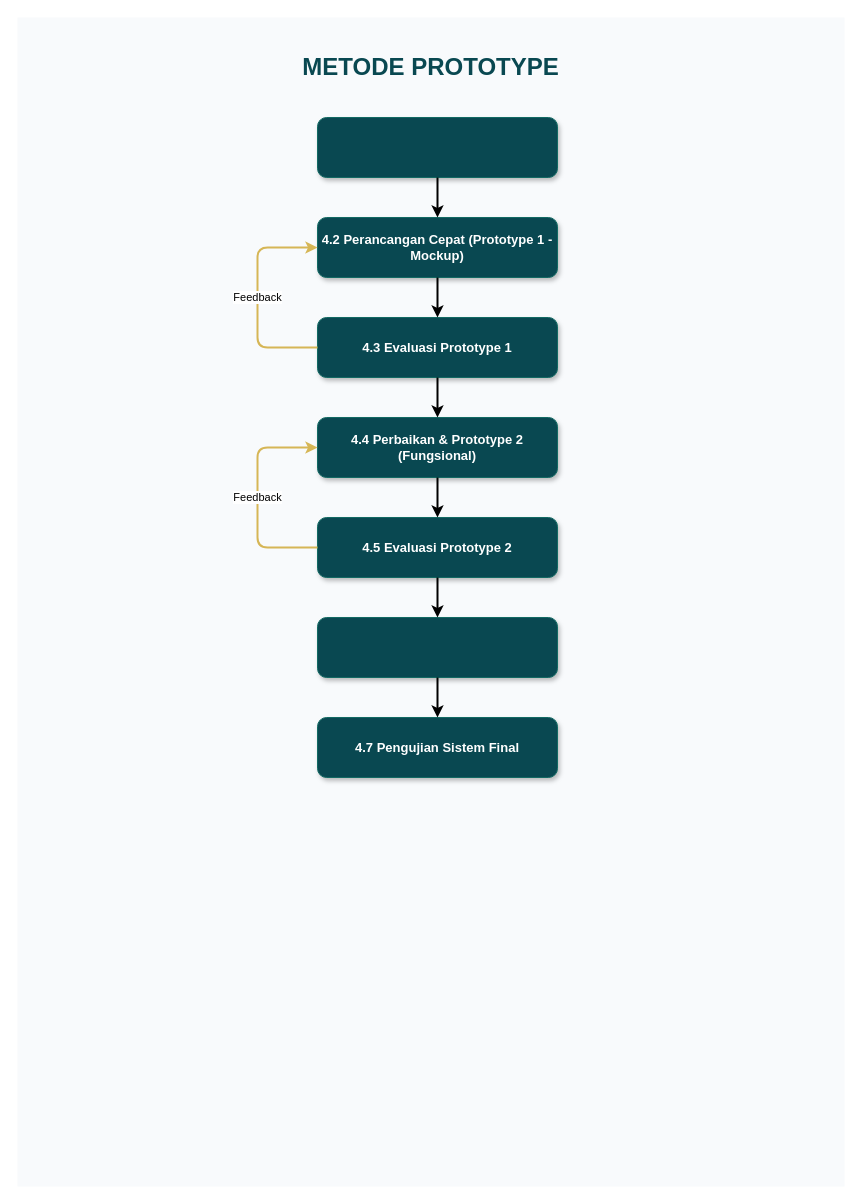
This 861x1203 diagram has some shape labels left out. The shapes that lost their labels are listed below. From the top down, each one's centre as x and y in pixels, then its label:
[438,148]: 4.1 Pengumpulan Kebutuhan Awal
[438,648]: 4.6 Implementasi Final
